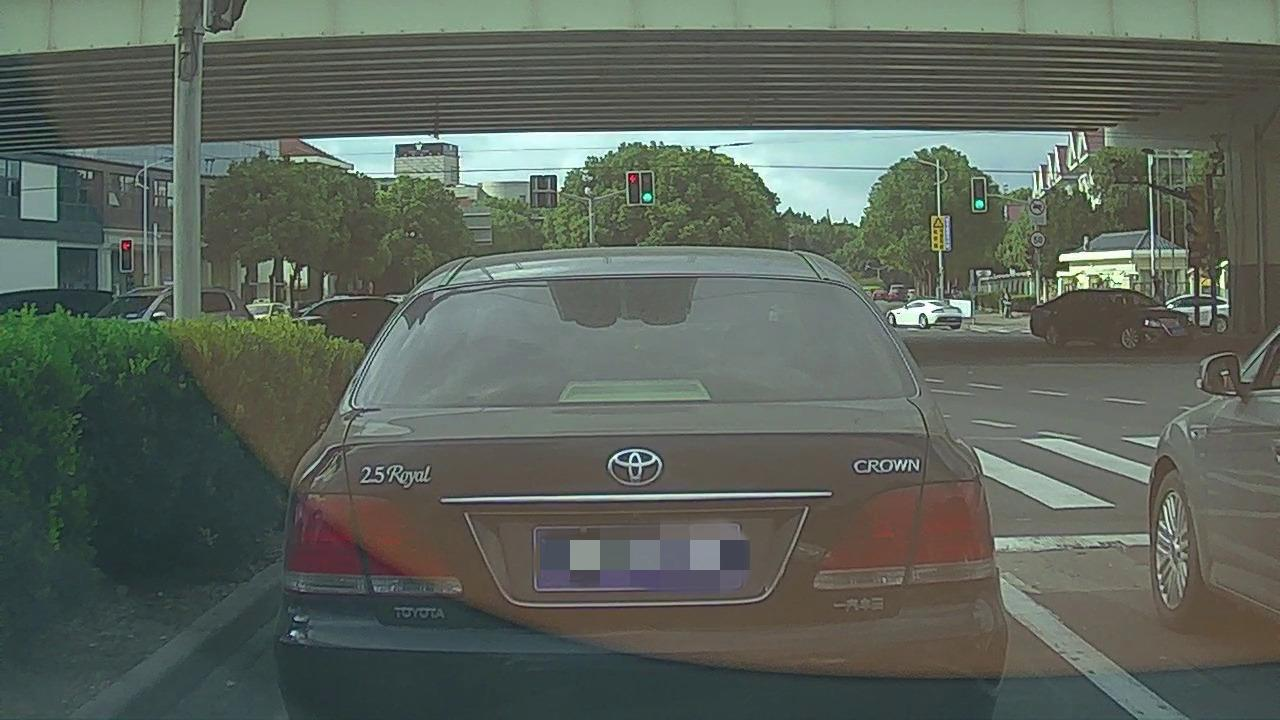traffic_light: (641, 170, 654, 205), (120, 238, 133, 272), (973, 178, 986, 211), (628, 172, 639, 203)
